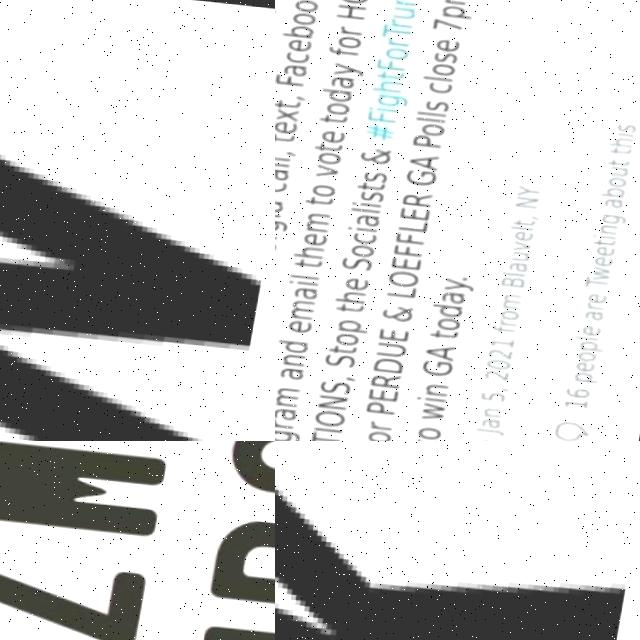0: (495, 355, 522, 365)
1: (570, 392, 601, 406), (498, 332, 526, 344)
2: (492, 364, 520, 379), (497, 341, 525, 355)
5: (489, 385, 520, 400)
6: (574, 380, 604, 393)
7: (433, 13, 467, 28)
A: (431, 337, 469, 357), (411, 148, 448, 167), (287, 363, 318, 379), (359, 208, 390, 224), (330, 72, 361, 87), (285, 60, 314, 75), (448, 286, 477, 301), (280, 403, 312, 416), (299, 282, 328, 296), (490, 412, 514, 425), (514, 256, 538, 268), (275, 164, 297, 177), (592, 304, 614, 316), (609, 192, 631, 203), (275, 195, 291, 210), (275, 436, 305, 441)
B: (285, 22, 318, 37), (506, 270, 536, 285), (605, 180, 634, 193)
C: (357, 226, 387, 242), (287, 47, 316, 63), (431, 75, 460, 91), (275, 175, 295, 192)
D: (381, 352, 416, 371), (323, 83, 361, 100), (439, 297, 475, 314), (284, 334, 321, 350)
E: (396, 249, 431, 268), (378, 382, 412, 401), (385, 321, 422, 338), (403, 201, 440, 217), (322, 124, 354, 141), (306, 228, 337, 243), (436, 33, 464, 49), (289, 35, 316, 51), (296, 316, 324, 331), (352, 273, 380, 288), (279, 117, 304, 131), (586, 319, 611, 332), (600, 249, 622, 263), (520, 225, 542, 238), (584, 355, 607, 367), (594, 286, 617, 298), (603, 240, 624, 252), (275, 249, 284, 264)
F: (276, 70, 310, 87), (376, 53, 414, 67), (400, 239, 434, 254), (401, 227, 435, 242), (371, 106, 403, 120), (331, 44, 363, 54), (500, 320, 527, 331), (368, 436, 402, 441)
G: (429, 354, 466, 375), (409, 164, 444, 184), (279, 425, 313, 441), (378, 90, 414, 105), (606, 207, 635, 220), (275, 215, 297, 229)
H: (374, 74, 410, 91), (297, 241, 335, 257), (337, 0, 371, 17), (342, 286, 378, 301), (613, 130, 640, 143)
I: (371, 100, 406, 111), (425, 390, 459, 400), (293, 275, 329, 284), (355, 196, 391, 205), (354, 220, 385, 230), (323, 423, 357, 430), (598, 227, 623, 235), (613, 124, 640, 131), (275, 206, 290, 215)
J: (484, 421, 518, 434)
K: (275, 441, 640, 640)
L: (402, 214, 438, 230), (394, 281, 427, 296), (292, 268, 331, 279), (424, 69, 459, 80), (417, 106, 455, 115), (355, 202, 390, 211), (507, 264, 535, 274), (516, 219, 545, 228), (584, 328, 610, 338), (419, 112, 453, 119), (275, 150, 298, 160), (275, 156, 298, 165)
M: (0, 441, 181, 536), (283, 381, 314, 405), (295, 295, 326, 317), (309, 209, 340, 230), (507, 286, 534, 306)
N: (0, 57, 275, 441), (325, 388, 362, 407), (433, 377, 462, 394), (520, 188, 547, 206), (291, 349, 318, 364), (490, 400, 516, 414), (606, 218, 627, 230)
O: (394, 264, 431, 285), (323, 405, 360, 424), (425, 116, 452, 135), (428, 419, 455, 438), (377, 425, 405, 441), (444, 312, 472, 328), (355, 240, 384, 255), (327, 97, 358, 111), (435, 57, 462, 73), (315, 179, 343, 194), (338, 31, 366, 46), (342, 330, 371, 344), (386, 43, 414, 57), (294, 8, 320, 23), (323, 148, 349, 162), (507, 303, 531, 315), (294, 0, 322, 9), (613, 172, 634, 184), (586, 346, 608, 357), (275, 235, 286, 251)
P: (414, 128, 449, 147), (440, 0, 478, 16), (375, 396, 409, 413), (345, 316, 381, 331), (579, 365, 611, 381), (587, 333, 615, 348)
R: (214, 506, 275, 617), (379, 367, 413, 388), (406, 186, 443, 203), (378, 414, 407, 429), (340, 20, 366, 35), (280, 415, 308, 428), (388, 32, 414, 45), (391, 14, 419, 26), (591, 295, 616, 308), (507, 314, 528, 321), (275, 226, 286, 237)
S: (325, 373, 365, 393), (334, 347, 369, 366), (348, 252, 381, 268), (365, 166, 397, 181), (435, 46, 464, 62), (426, 93, 454, 109), (364, 186, 392, 200), (620, 116, 640, 127)
T: (320, 427, 356, 441), (318, 136, 350, 151), (309, 191, 343, 205), (298, 254, 334, 267), (334, 338, 370, 351), (376, 65, 411, 78), (383, 21, 415, 35), (323, 110, 355, 123), (362, 176, 394, 189), (439, 323, 470, 336), (343, 298, 375, 310), (592, 271, 619, 285), (514, 211, 545, 222), (275, 128, 302, 140), (277, 95, 306, 106), (614, 140, 639, 151), (421, 433, 453, 441), (612, 152, 637, 162), (600, 231, 624, 241)
U: (383, 335, 417, 354), (394, 1, 420, 16), (517, 245, 540, 259), (616, 160, 636, 172)
V: (319, 159, 345, 175), (518, 236, 540, 248)
W: (431, 397, 457, 418), (598, 260, 620, 275)
X: (278, 105, 307, 119)
Y: (333, 58, 369, 75), (448, 274, 483, 288), (517, 178, 548, 193)
Z: (0, 544, 155, 640)
